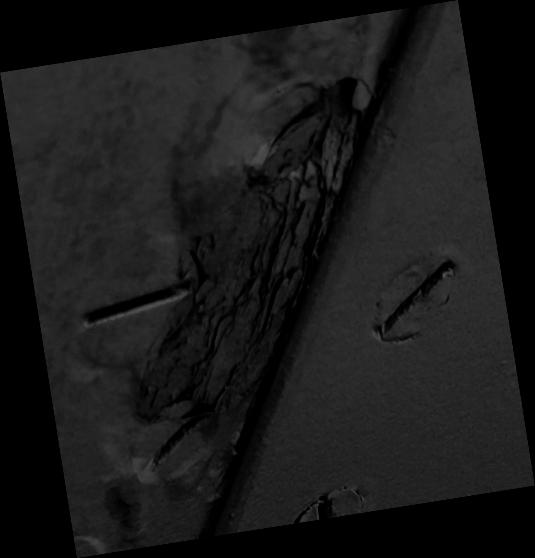paint-off: (1, 1, 535, 558)
